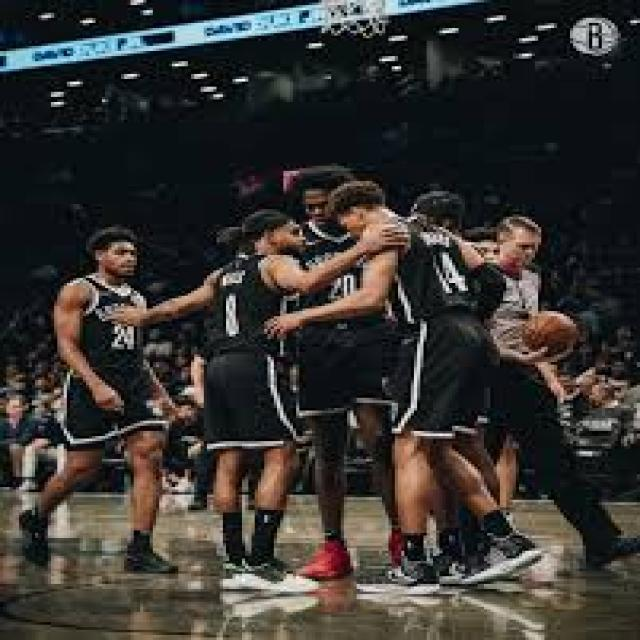rim: (526, 308, 580, 354)
